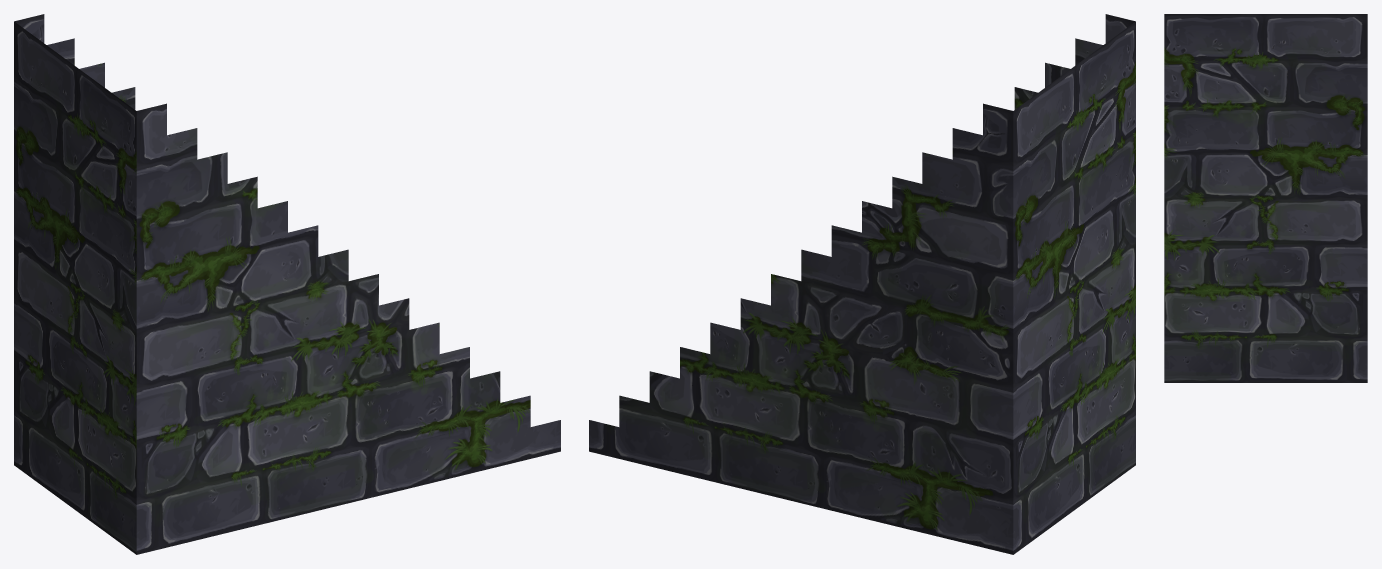
Rendered from MOD_Stairs_01_WallCover_1_half.fbx.
3 views of the same model, side by side, from view 1: azimuth 30°, elevation 25°; view 2: azimuth 150°, elevation 25°; view 3: azimuth 270°, elevation 25° (orthographic). The views are drawn at different scales.
Parts seen in each view (by area): view 1: MOD_Stairs_01_WallCover_1_half; view 2: MOD_Stairs_01_WallCover_1_half; view 3: MOD_Stairs_01_WallCover_1_half.
Part boxes in pixels (x1,y1,x2,y2): MOD_Stairs_01_WallCover_1_half: [14, 14, 560, 554]; MOD_Stairs_01_WallCover_1_half: [589, 14, 1135, 554]; MOD_Stairs_01_WallCover_1_half: [1164, 14, 1367, 382].
Size of what is drawn, in the model's own units: 400 by 400 by 200.
